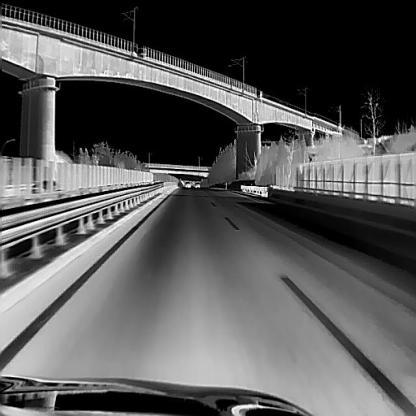car: (184, 180, 191, 187), (194, 180, 200, 187)
